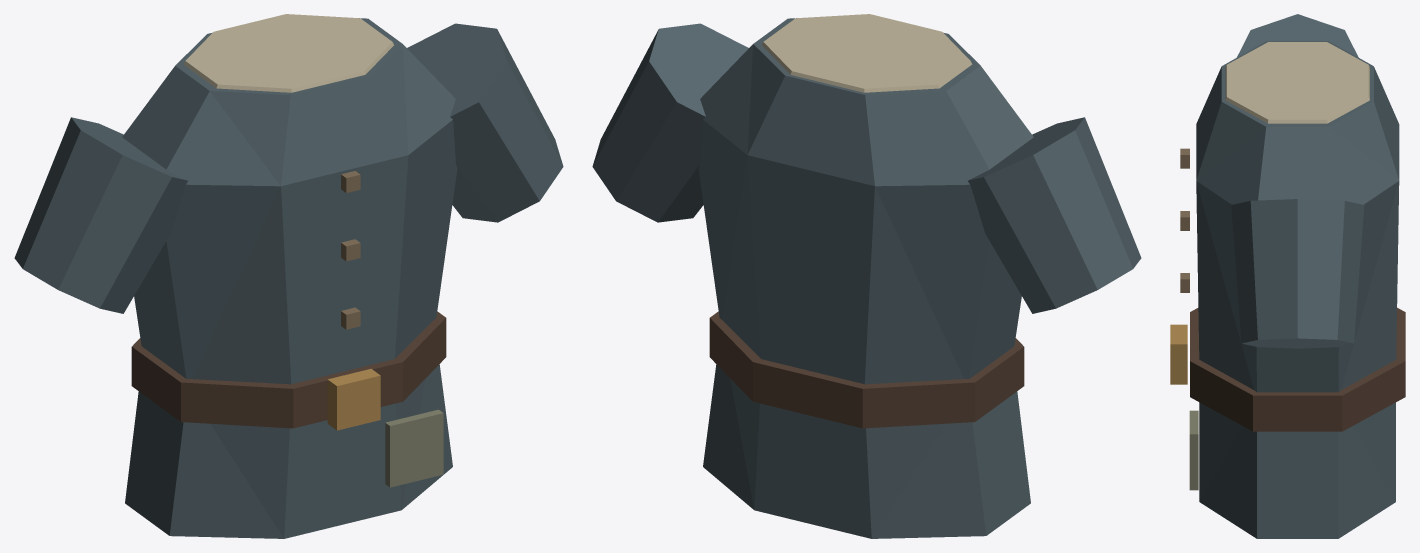
Rendered from NPC_Torso_00_Tunic.glb.
3 views of the same model, side by side, from view 1: azimuth 30°, elevation 25°; view 2: azimuth 150°, elevation 25°; view 3: azimuth 270°, elevation 25° (orthographic). The views are drawn at different scales.
Visible parts, largest first — view 1: NPC_Torso_00_Tunic; view 2: NPC_Torso_00_Tunic; view 3: NPC_Torso_00_Tunic.
Part boxes in pixels (x1=…): NPC_Torso_00_Tunic: x1=14, y1=14, x2=563, y2=538; NPC_Torso_00_Tunic: x1=592, y1=14, x2=1141, y2=538; NPC_Torso_00_Tunic: x1=1170, y1=14, x2=1405, y2=538.
Size of the model in its own units: 0.8157 by 0.635 by 0.3426.
